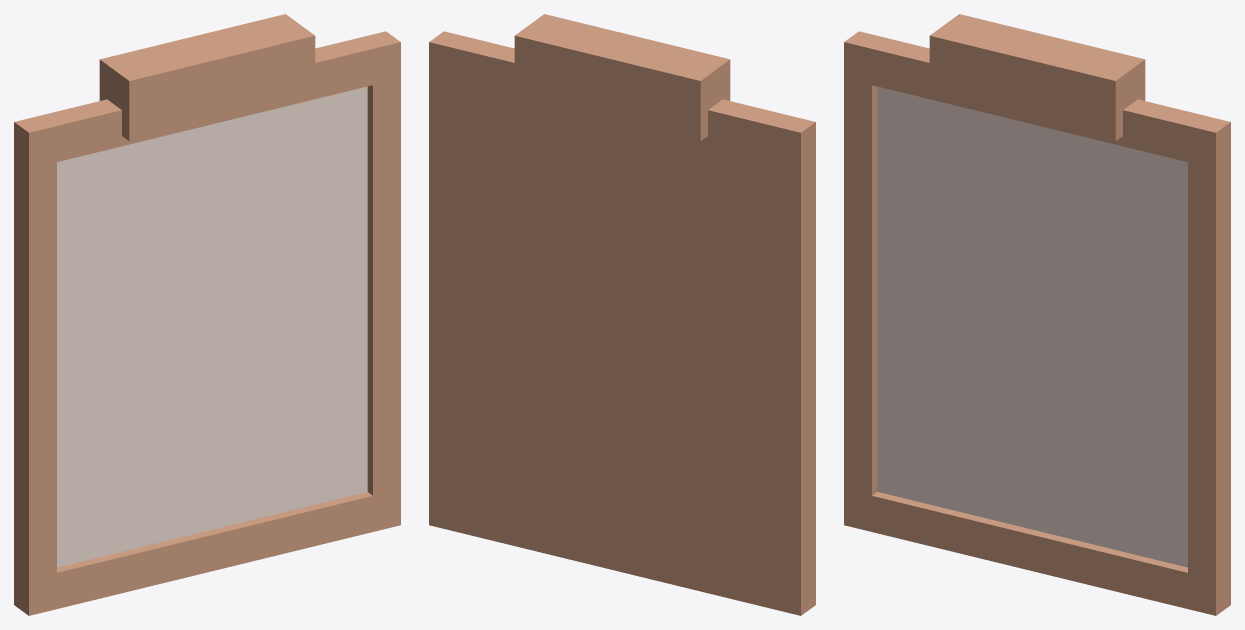
File: Small_Clip_Board.fbx
The picture shows the model from 3 angles, left to right: view 1: azimuth 30°, elevation 25°; view 2: azimuth 150°, elevation 25°; view 3: azimuth 330°, elevation 25°; orthographic projection.
Visible parts, largest first — view 1: Small_Clip_Board; view 2: Small_Clip_Board; view 3: Small_Clip_Board.
Boxes of the visible parts, x1,y1,x2,y2 form: Small_Clip_Board: (14,14,400,615); Small_Clip_Board: (429,14,815,615); Small_Clip_Board: (844,14,1230,615).
Size of the model in its own units: 14.26 by 18.97 by 1.97.
